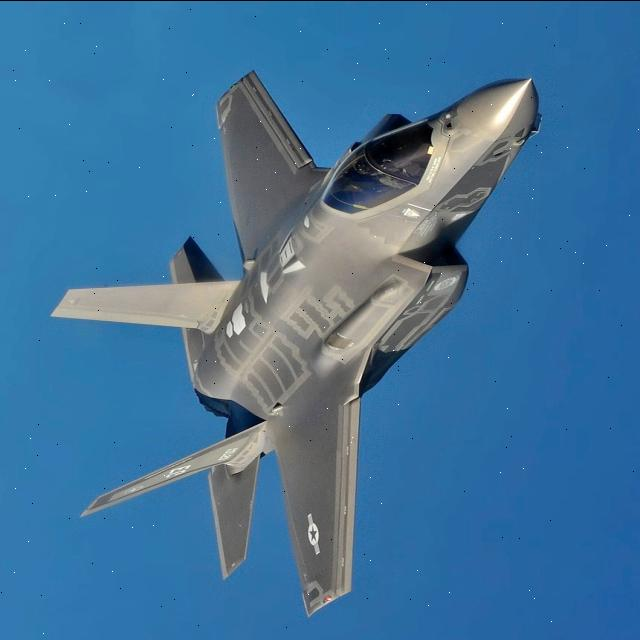jet: (43, 0, 615, 640)
